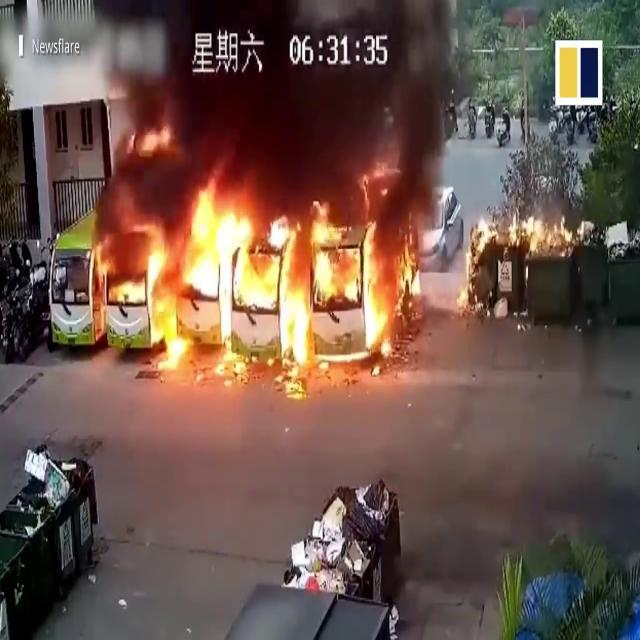Fire: (94, 185, 432, 372), (478, 210, 586, 250)
Smoke: (88, 0, 462, 217)
